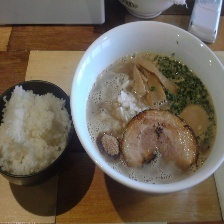rice: (1, 80, 70, 175)
